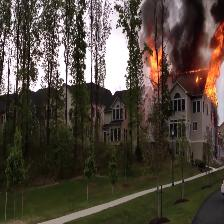fire: (208, 39, 222, 102), (144, 48, 168, 84)
smoke: (146, 0, 204, 45), (174, 46, 200, 74)
